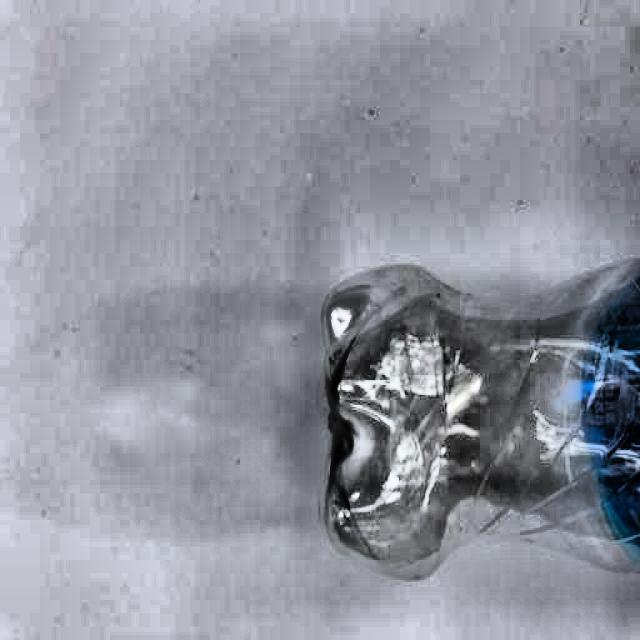plastic: (317, 258, 640, 582)
